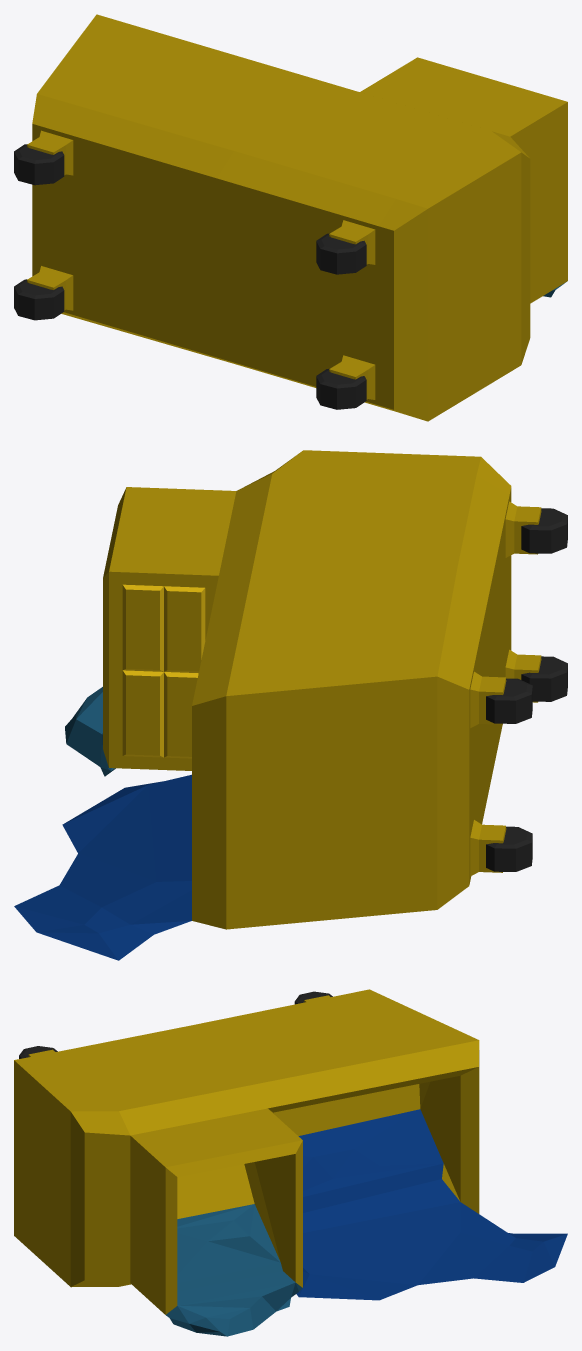
The model's file is MopBucketV2Spilled.fbx.
3 views of the same model, one above another, from view 1: azimuth 30°, elevation 25°; view 2: azimuth 150°, elevation 25°; view 3: azimuth 270°, elevation 25° (orthographic). The views are drawn at different scales.
Visible parts, largest first — view 1: MopBucketV2Spilled; view 2: MopBucketV2Spilled; view 3: MopBucketV2Spilled.
Part boxes in pixels (x1=…): MopBucketV2Spilled: x1=14, y1=14, x2=567, y2=421; MopBucketV2Spilled: x1=14, y1=450, x2=567, y2=960; MopBucketV2Spilled: x1=14, y1=989, x2=567, y2=1336.
Bounding box in the file's own units: 65.77 × 27.99 × 79.93.
